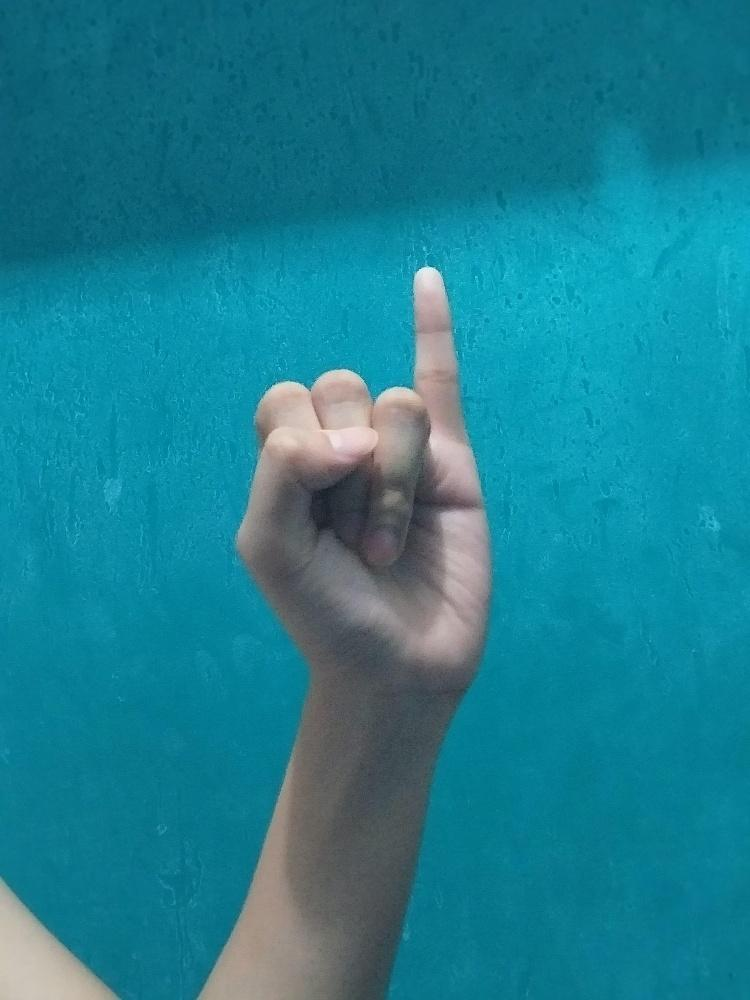i: (231, 259, 494, 684)
